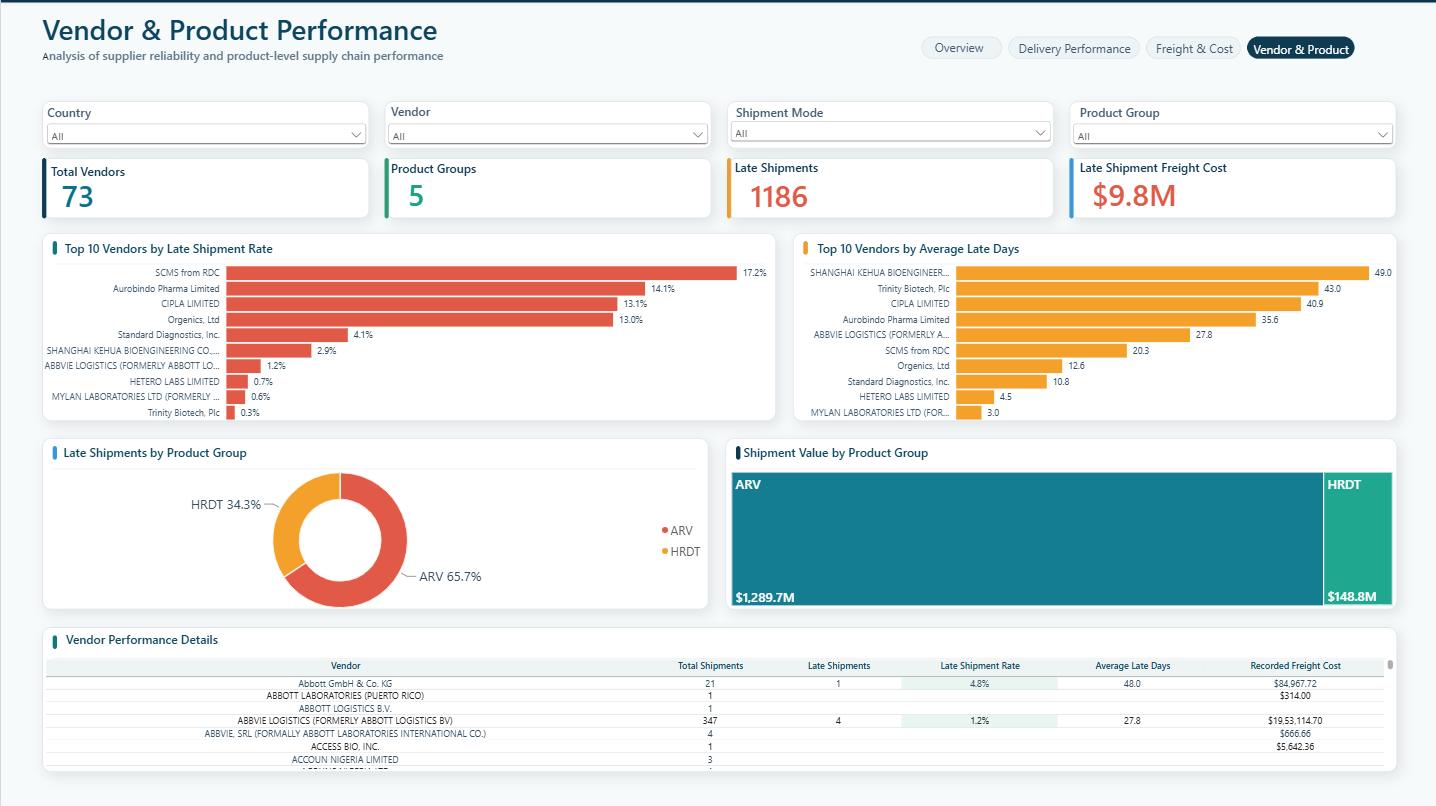

The page's visual inventory and layout, read from the dashboard file:
{"tool":"powerbi","page":{"name":"Vendor & Product Performance","canvas":[1920,1080],"ordinal":3},"visuals":[{"type":"textbox","box":[1247.8,52.2,102.2,36.7],"z":0},{"type":"textbox","box":[1542.8,53.3,111.1,36.7],"z":1000},{"type":"textbox","box":[1673.3,54.4,138.9,36.7],"z":2000},{"type":"textbox","box":[1358.9,53.3,164.4,36.7],"z":3000},{"type":"textbox","box":[61.5,139.2,78.5,29.2],"z":4000},{"type":"textbox","box":[521.4,137.1,78.5,29.2],"z":5000},{"type":"textbox","box":[1441.1,137.8,120,28.9],"z":6000},{"type":"textbox","box":[981.1,138.9,143.3,28.9],"z":7000},{"type":"slicer","fields":{"Values":["Shipments.country"]},"box":[56,160,436,46],"z":8000},{"type":"slicer","fields":{"Values":["Shipments.vendor"]},"box":[512,160,436.7,46],"z":9000},{"type":"slicer","fields":{"Values":["Shipments.shipment_mode"]},"box":[970,156.7,436.7,49.3],"z":10000},{"type":"slicer","fields":{"Values":["Shipments.product_group"]},"box":[1428,160,436.7,46],"z":11000},{"type":"textbox","box":[55,13,920,99],"z":12000},{"type":"textbox","box":[66.3,217.2,208,22.1],"z":13000},{"type":"cardVisual","fields":{"Data":["Shipments.Total Vendors"]},"box":[65,235,208.3,51.7],"z":14000},{"type":"textbox","box":[521.6,214.3,208,22.1],"z":15000},{"type":"cardVisual","fields":{"Data":["Shipments.Total Product Groups"]},"box":[527.5,234.1,209.1,51.8],"z":16000},{"type":"textbox","box":[980.4,212.1,208,22.1],"z":17000},{"type":"cardVisual","fields":{"Data":["Shipments.Late Shipments"]},"box":[985,233.8,209,52],"z":18000},{"type":"textbox","box":[1441.1,211.7,208,22.1],"z":19000},{"type":"cardVisual","fields":{"Data":["Shipments.Late Shipment Freight Cost"]},"box":[1441.3,233.7,370.1,51.9],"z":20000},{"type":"textbox","box":[84.4,320.3,307.3,23.8],"z":21000},{"type":"clusteredBarChart","fields":{"Category":["Shipments.vendor"],"Y":["Shipments.Late Shipment Rate4"]},"box":[30,332.5,1008.8,245],"z":22000},{"type":"textbox","box":[1090,320,307.3,23.8],"z":23000},{"type":"clusteredBarChart","fields":{"Category":["Shipments.vendor"],"Y":["Shipments.Average Late Days"]},"box":[1052.5,332.5,822.5,245],"z":24000},{"type":"textbox","box":[84.3,592.9,307.1,22.9],"z":25000},{"type":"donutChart","fields":{"Category":["Shipments.product_group"],"Y":["Shipments.Late Shipment Rate4"]},"box":[10,592.2,950,258.9],"z":26000},{"type":"treemap","fields":{"Group":["Shipments.product_group"],"Values":["Sum(Shipments.line_item_value)"]},"box":[960,616.7,914.4,208.9],"z":27000},{"type":"textbox","box":[992,592,307.1,22.9],"z":28000},{"type":"textbox","box":[86,844,306.7,23.3],"z":29000},{"type":"tableEx","fields":{"Values":["Shipments.vendor","Shipments.Total Shipments","Shipments.Late Shipments","Shipments.Late Shipment Rate4","Shipments.Average Late Days","Shipments.Recorded Freight Cost"]},"box":[43,867,1833,176],"z":30000}]}

Visuals, with their boxes in screenshot pixels (x1, y1, x2, y2), scaled from the page's 1920x1080 canvas onto the 1436x806 screenshot:
textbox: <region>933, 39, 1010, 66</region>
textbox: <region>1154, 40, 1237, 67</region>
textbox: <region>1251, 41, 1355, 68</region>
textbox: <region>1016, 40, 1139, 67</region>
textbox: <region>46, 104, 105, 126</region>
textbox: <region>390, 102, 449, 124</region>
textbox: <region>1078, 103, 1168, 124</region>
textbox: <region>734, 104, 841, 125</region>
slicer - Shipments.country: <region>42, 119, 368, 154</region>
slicer - Shipments.vendor: <region>383, 119, 710, 154</region>
slicer - Shipments.shipment_mode: <region>725, 117, 1052, 154</region>
slicer - Shipments.product_group: <region>1068, 119, 1395, 154</region>
textbox: <region>41, 10, 729, 84</region>
textbox: <region>50, 162, 205, 179</region>
cardVisual - Shipments.Total Vendors: <region>49, 175, 204, 214</region>
textbox: <region>390, 160, 546, 176</region>
cardVisual - Shipments.Total Product Groups: <region>395, 175, 551, 213</region>
textbox: <region>733, 158, 889, 175</region>
cardVisual - Shipments.Late Shipments: <region>737, 174, 893, 213</region>
textbox: <region>1078, 158, 1233, 174</region>
cardVisual - Shipments.Late Shipment Freight Cost: <region>1078, 174, 1355, 213</region>
textbox: <region>63, 239, 293, 257</region>
clusteredBarChart - Shipments.vendor x Shipments.Late Shipment Rate4: <region>22, 248, 777, 431</region>
textbox: <region>815, 239, 1045, 257</region>
clusteredBarChart - Shipments.vendor x Shipments.Average Late Days: <region>787, 248, 1402, 431</region>
textbox: <region>63, 442, 293, 460</region>
donutChart - Shipments.product_group x Shipments.Late Shipment Rate4: <region>7, 442, 718, 635</region>
treemap - Shipments.product_group x Sum(Shipments.line_item_value): <region>718, 460, 1402, 616</region>
textbox: <region>742, 442, 972, 459</region>
textbox: <region>64, 630, 294, 647</region>
tableEx - Shipments.vendor x Shipments.Total Shipments: <region>32, 647, 1403, 778</region>
